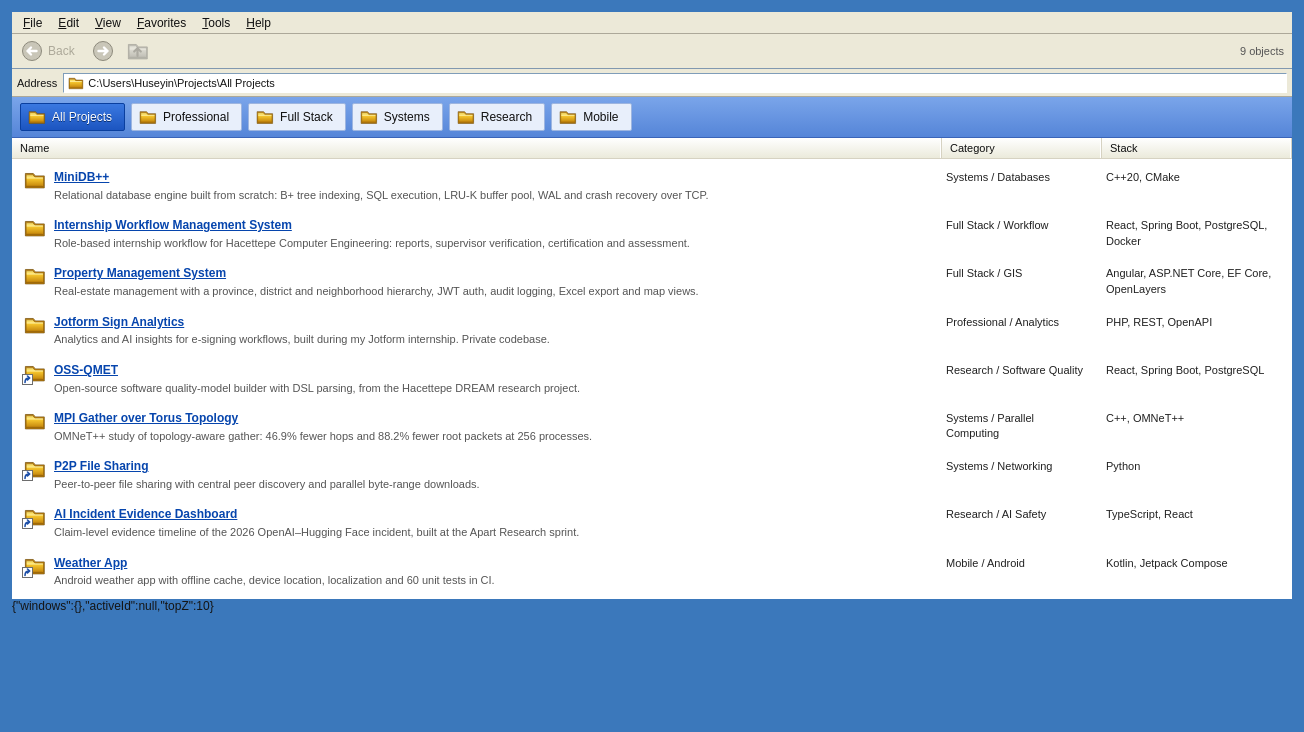
Test: portfolio UI behavior › lists case studies and repository shortcuts in one details view
The image size is (1304, 732).
Check: the text "9 objects" is shown, box [1240,45,1287,57]
Click the button "MiniDB++" at [652, 186], box [15,162,1289,210]
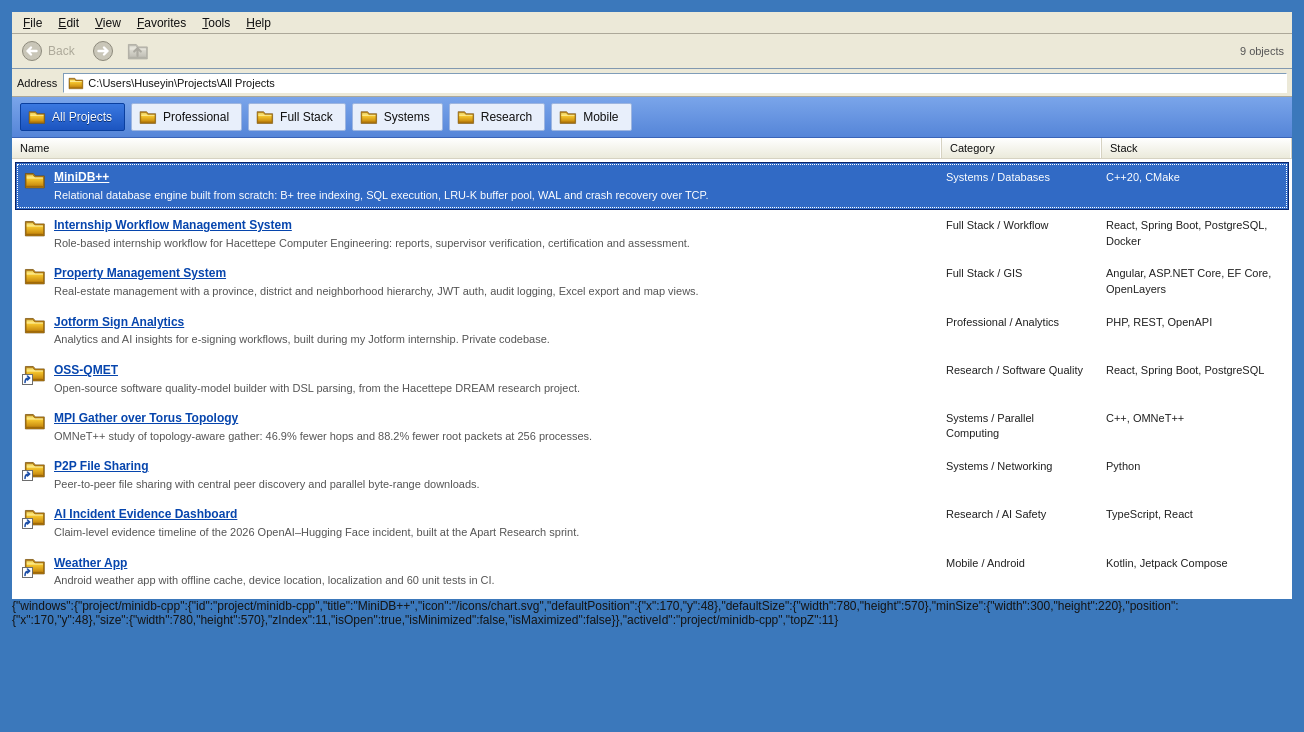
Check: the text with test id "state" shows "\"project/minidb-cpp\"", box [12,599,1179,627]
Click the tab "Research" at [497, 117], box [449,103,545,131]
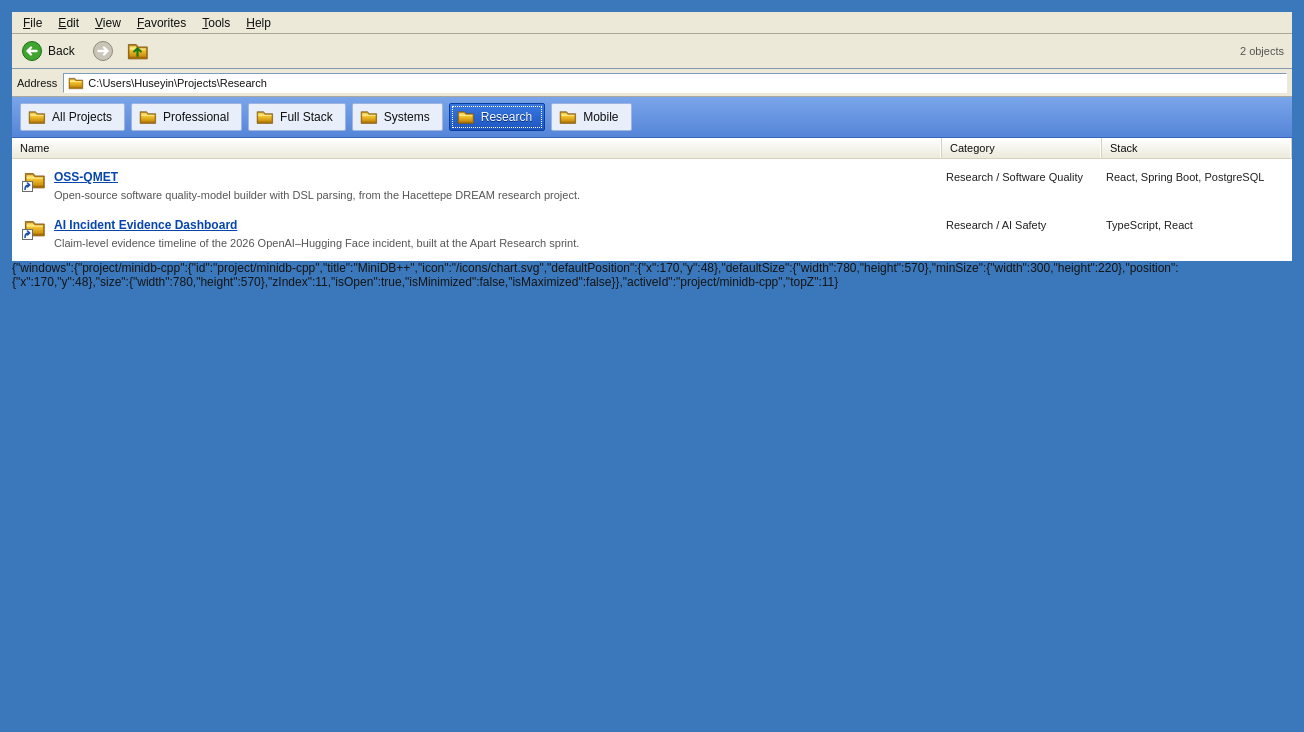
Check: the number of list items is 2, box [15,162,1289,210]; [15,210,1289,258]
